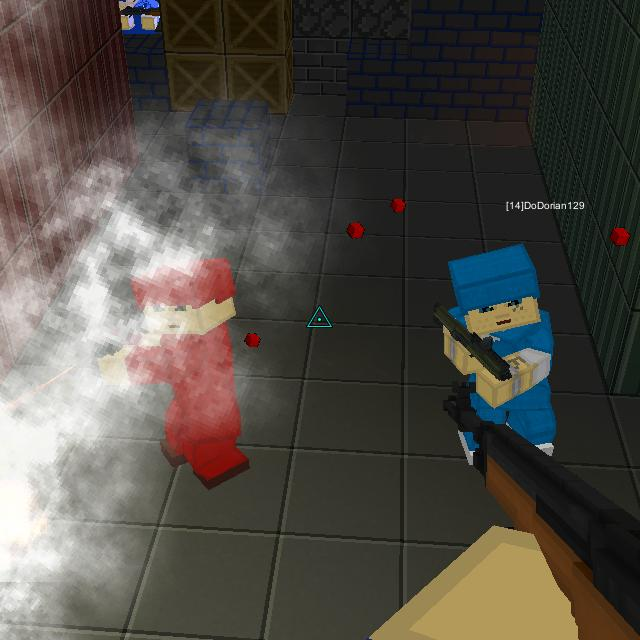enemy: (114, 253, 254, 490)
